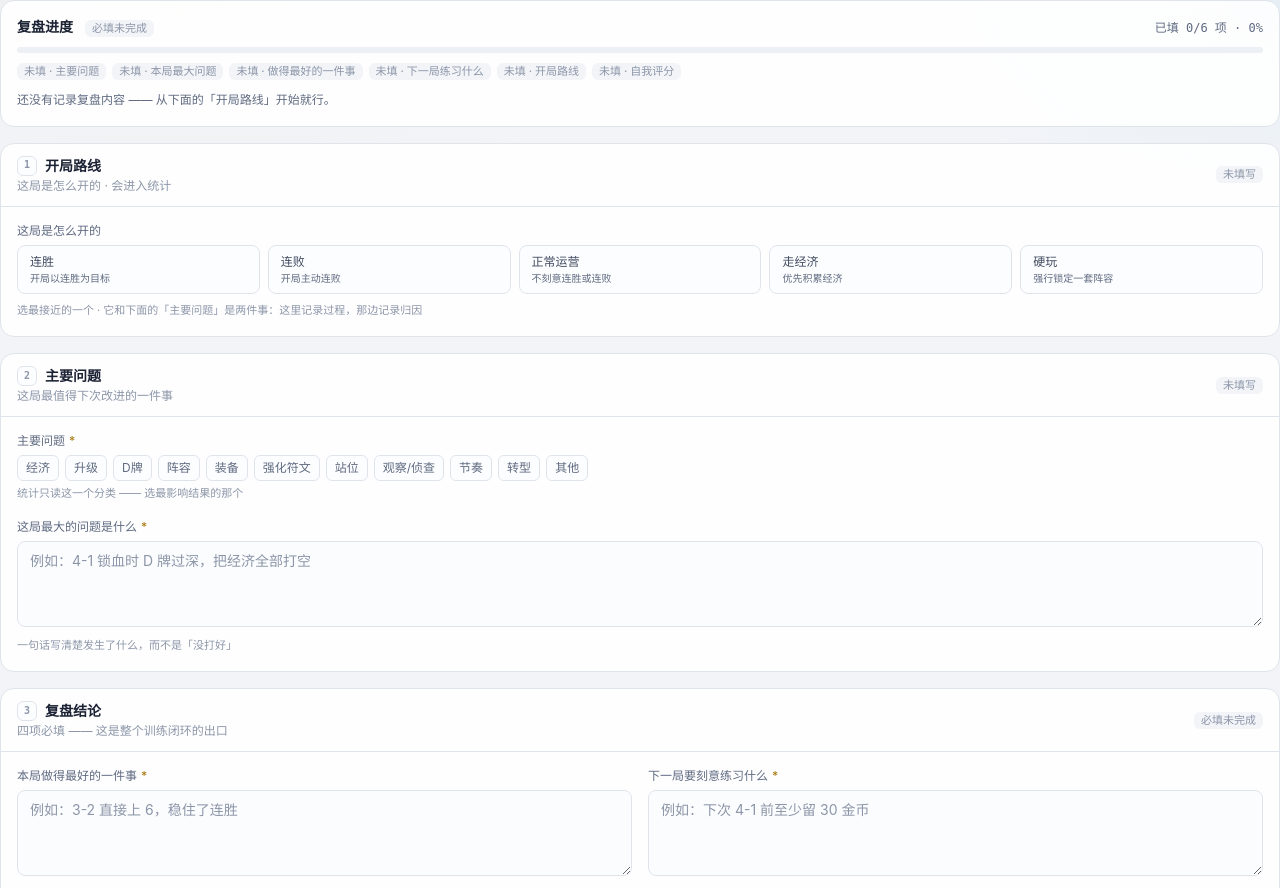
Test case: ReviewForm · completeness › tells an untouched review where to start
Expected: the text "还没有记录复盘内容 —— 从下面的「开局路线」开始就行。" is shown, [17, 92, 336, 107]
Step 1. Click the button "硬玩 强行锁定一套阵容" → (1142, 269), box [1020, 244, 1263, 294]
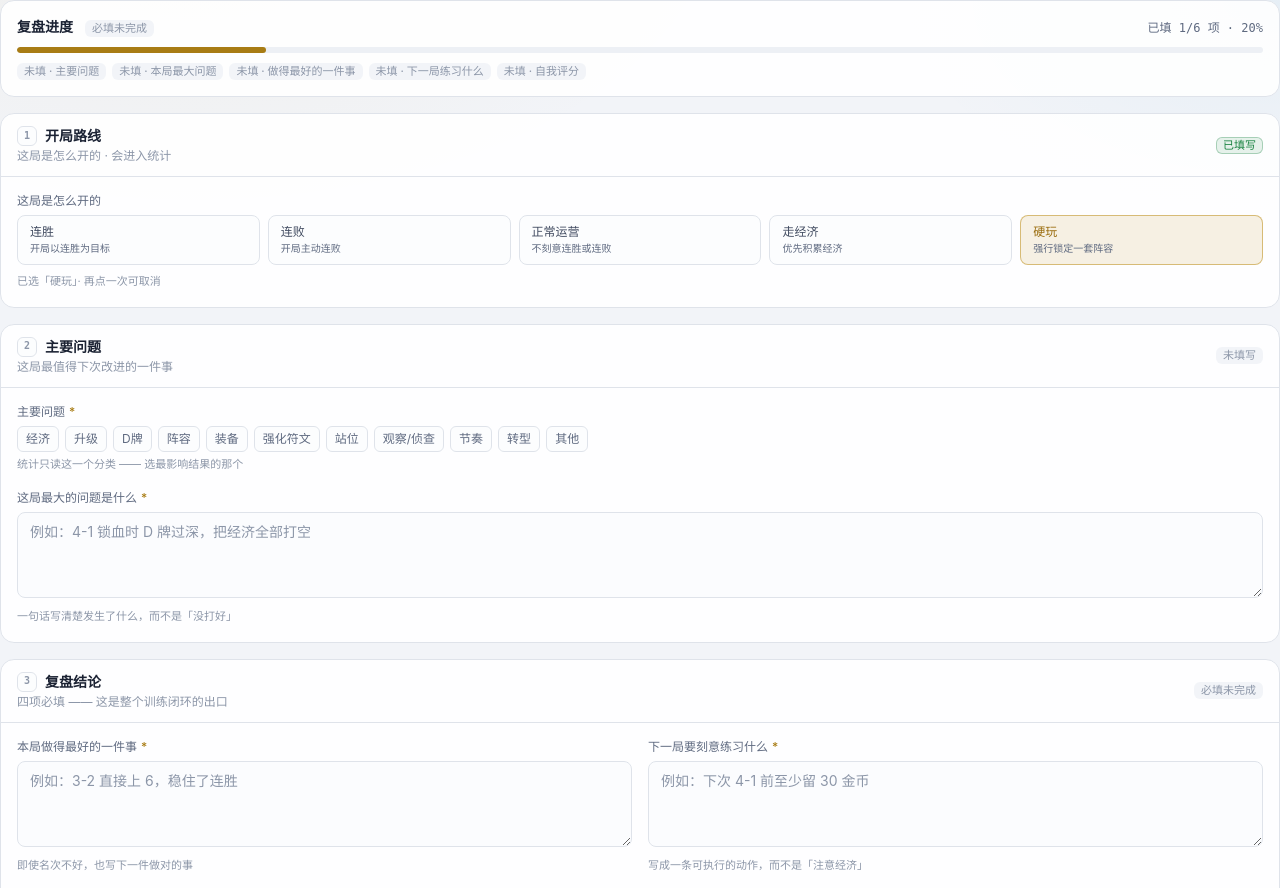
Now the text "还没有记录复盘内容" is gone
